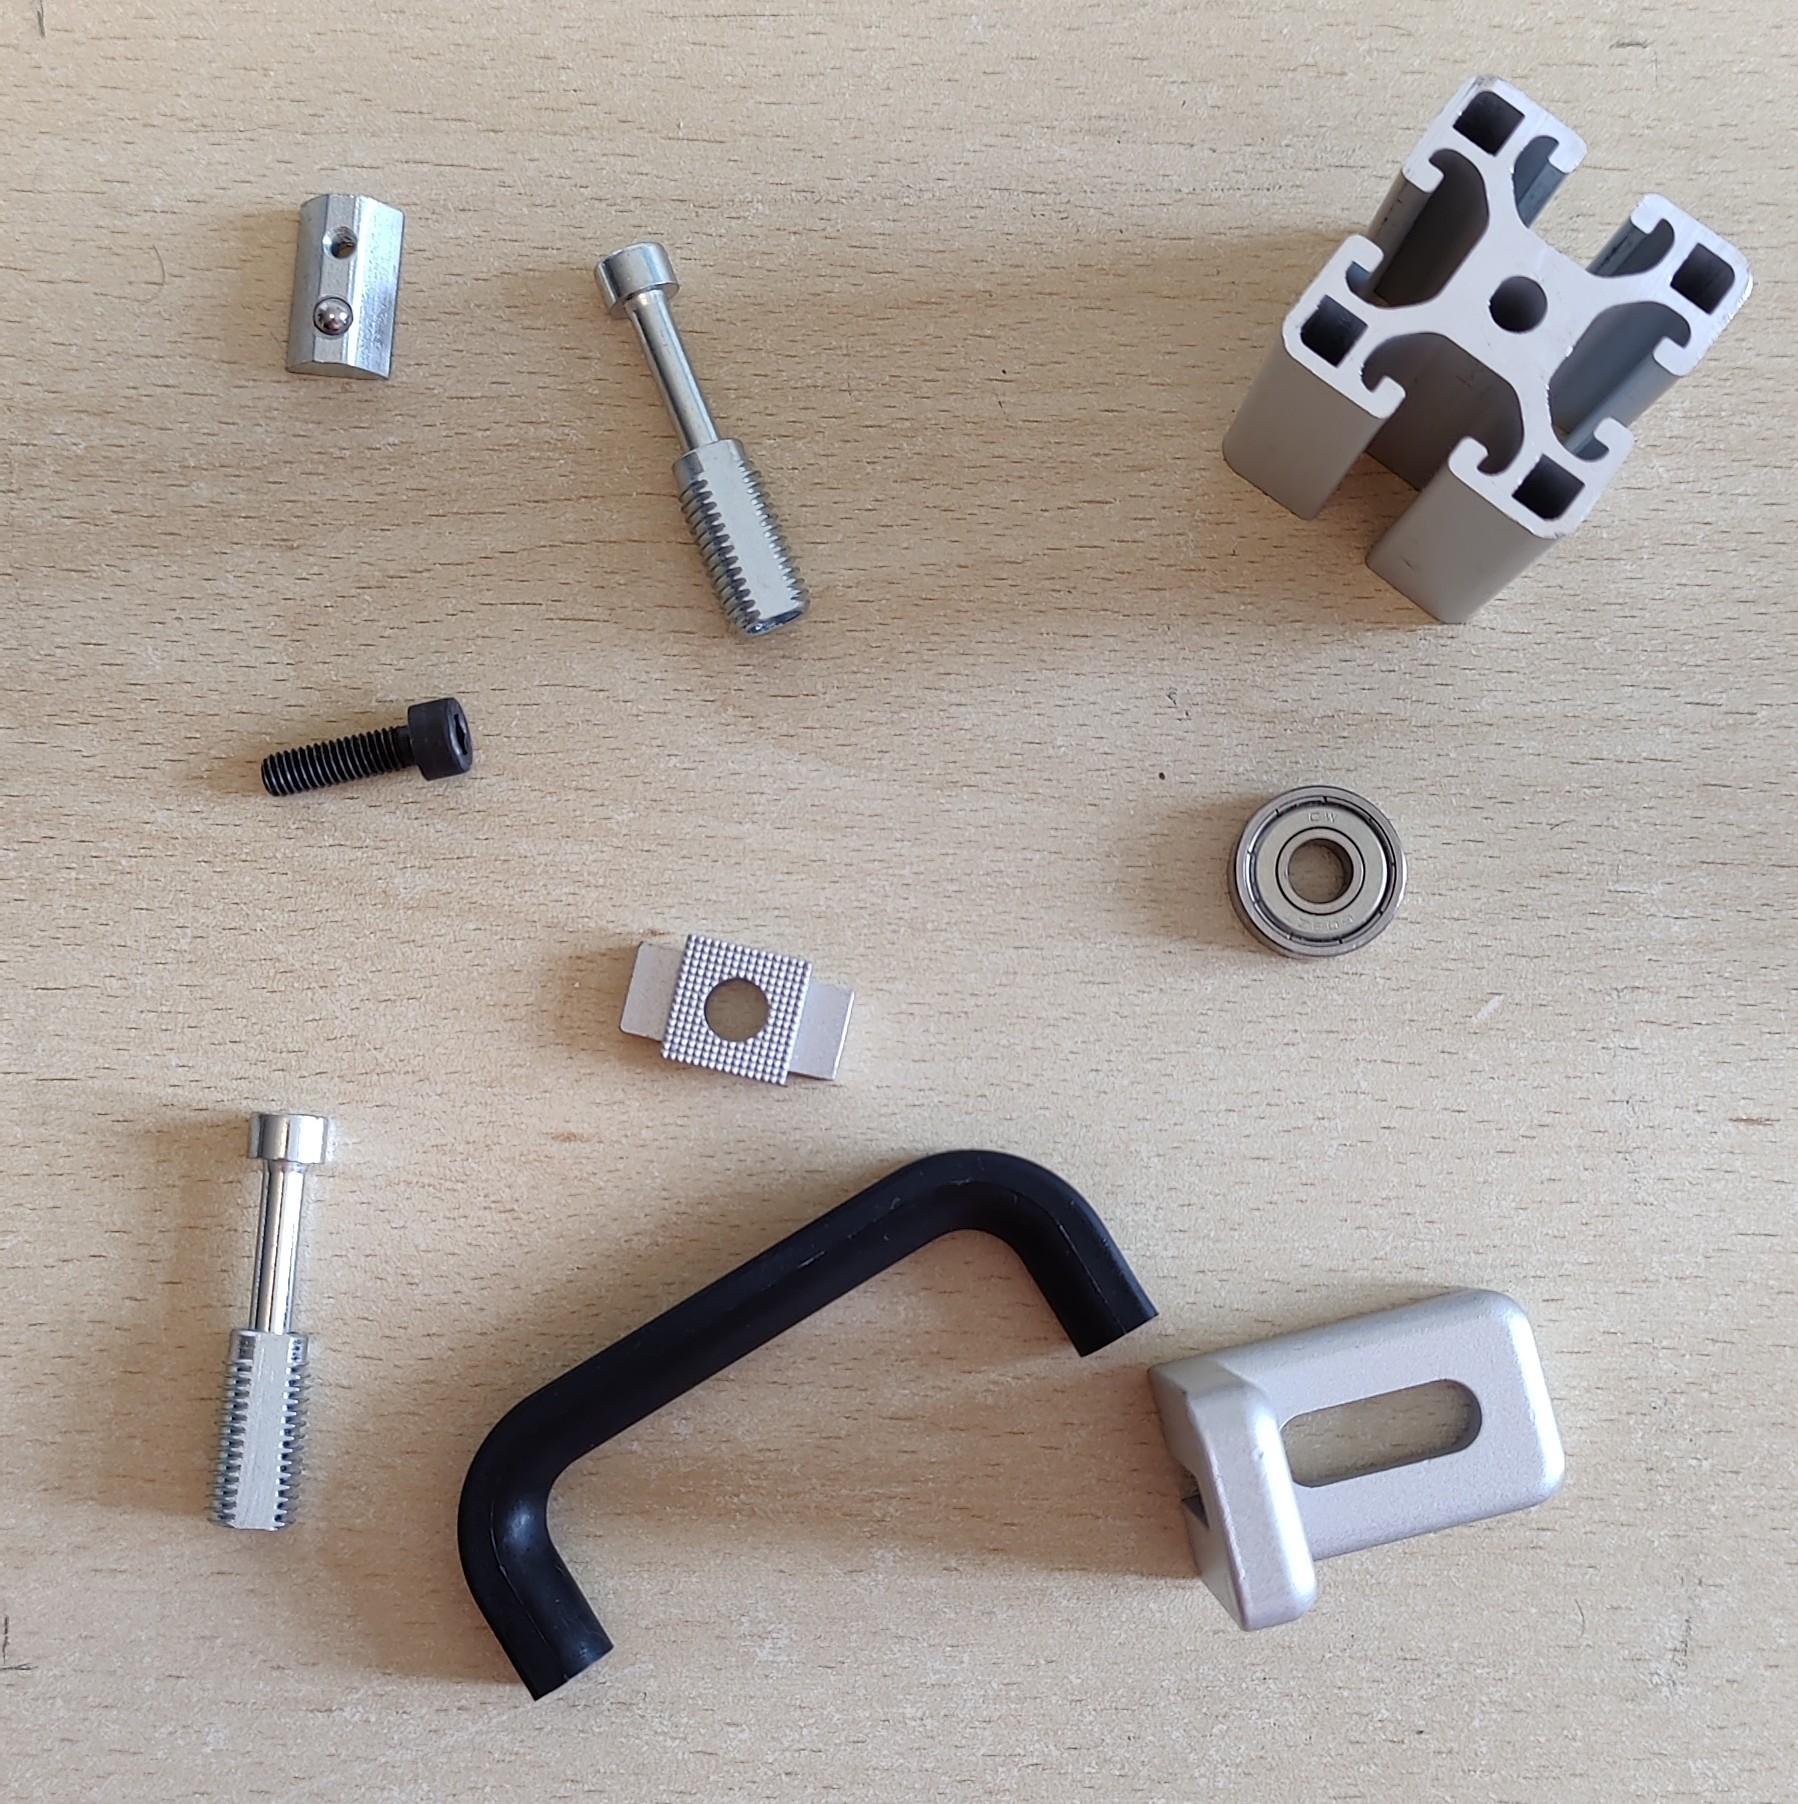Aluminium Extension: (1218, 74, 1754, 627)
Ball Bearing: (1227, 783, 1408, 965)
Multiwinkel: (1144, 1286, 1569, 1634)
Pull Handle: (454, 1147, 1161, 1704)
Shoulder Socket Head Cap Screw: (589, 240, 813, 640), (203, 1109, 329, 1537)
Socket Head Cap Screw: (259, 695, 476, 802)
T Nut Square: (616, 933, 858, 1090)
T Spring Nut: (280, 189, 407, 382)
